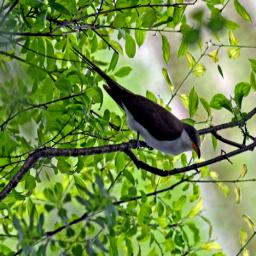Cuckoo: (69, 8, 208, 196)
